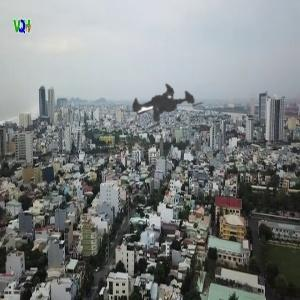drone: (100, 39, 223, 162)
